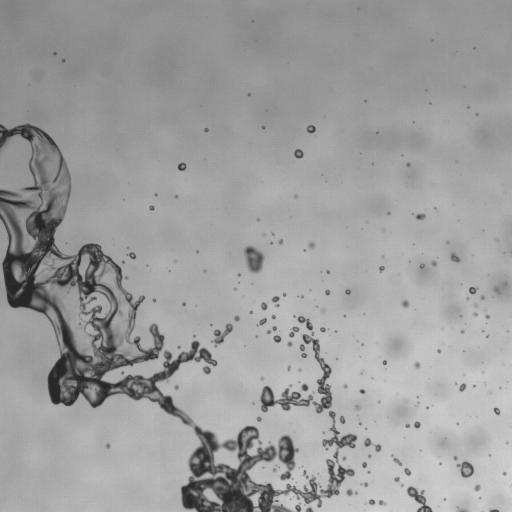droplet: (244, 245, 264, 273), (457, 461, 474, 477), (289, 326, 299, 337), (294, 149, 303, 158), (450, 253, 459, 262), (177, 162, 186, 170), (469, 286, 478, 294), (272, 296, 279, 306), (346, 489, 357, 495), (307, 125, 315, 133), (401, 300, 409, 307), (258, 318, 266, 325), (273, 335, 281, 342), (301, 383, 308, 391), (459, 383, 466, 391), (416, 213, 425, 219), (128, 252, 135, 259), (404, 468, 411, 475), (308, 241, 314, 249), (261, 302, 267, 310), (493, 407, 499, 414), (414, 421, 420, 428), (474, 484, 480, 491), (367, 499, 374, 505), (414, 362, 420, 368), (340, 416, 345, 423), (379, 500, 386, 505), (305, 507, 313, 511), (431, 260, 436, 266), (379, 266, 384, 272), (494, 287, 499, 293), (325, 289, 330, 295), (149, 205, 154, 210), (345, 289, 350, 294), (234, 316, 239, 321), (320, 327, 325, 332), (287, 341, 292, 346), (394, 477, 399, 482), (362, 462, 366, 467), (362, 482, 367, 486), (278, 239, 282, 243), (473, 312, 477, 316), (271, 315, 275, 319), (272, 326, 276, 330), (382, 360, 386, 364), (174, 385, 178, 389), (343, 384, 347, 388), (360, 389, 364, 393), (257, 417, 261, 421), (342, 456, 346, 460), (453, 456, 457, 460), (204, 128, 208, 131), (406, 163, 410, 166), (152, 298, 156, 301), (485, 315, 489, 318), (287, 366, 290, 370), (355, 405, 359, 408), (495, 238, 498, 241), (420, 264, 423, 267), (326, 270, 329, 273), (481, 296, 484, 299), (182, 302, 185, 305), (267, 330, 270, 333), (437, 349, 440, 352), (406, 424, 409, 427), (106, 444, 109, 447), (175, 195, 177, 198), (238, 273, 240, 276), (474, 304, 477, 306), (249, 311, 252, 313), (461, 330, 463, 333), (177, 346, 180, 348), (359, 422, 361, 425), (368, 455, 371, 457), (503, 472, 505, 475), (400, 484, 403, 486), (262, 126, 264, 128), (294, 195, 296, 197), (283, 293, 285, 295), (486, 335, 488, 337), (121, 371, 123, 373), (261, 377, 263, 379), (416, 403, 418, 405), (439, 463, 441, 465), (367, 471, 369, 473)
ligament: (0, 124, 357, 511), (407, 486, 433, 511), (212, 323, 233, 346), (364, 438, 381, 451), (391, 455, 401, 465), (456, 507, 468, 511), (489, 509, 499, 511)
